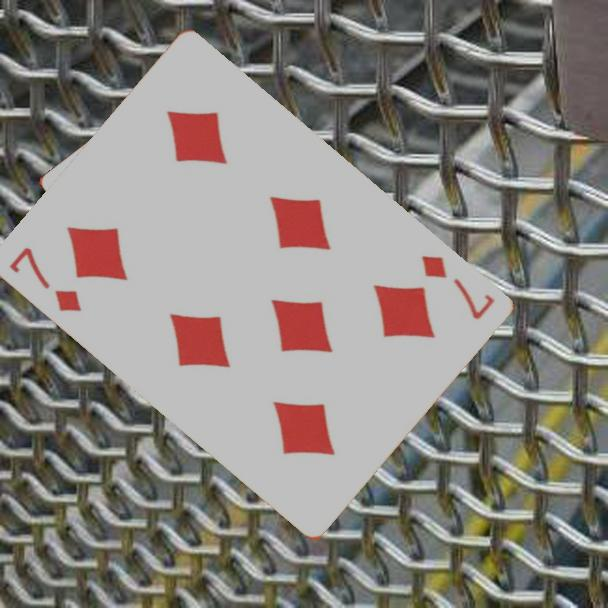d07: (418, 251, 499, 323), (6, 243, 86, 315)
